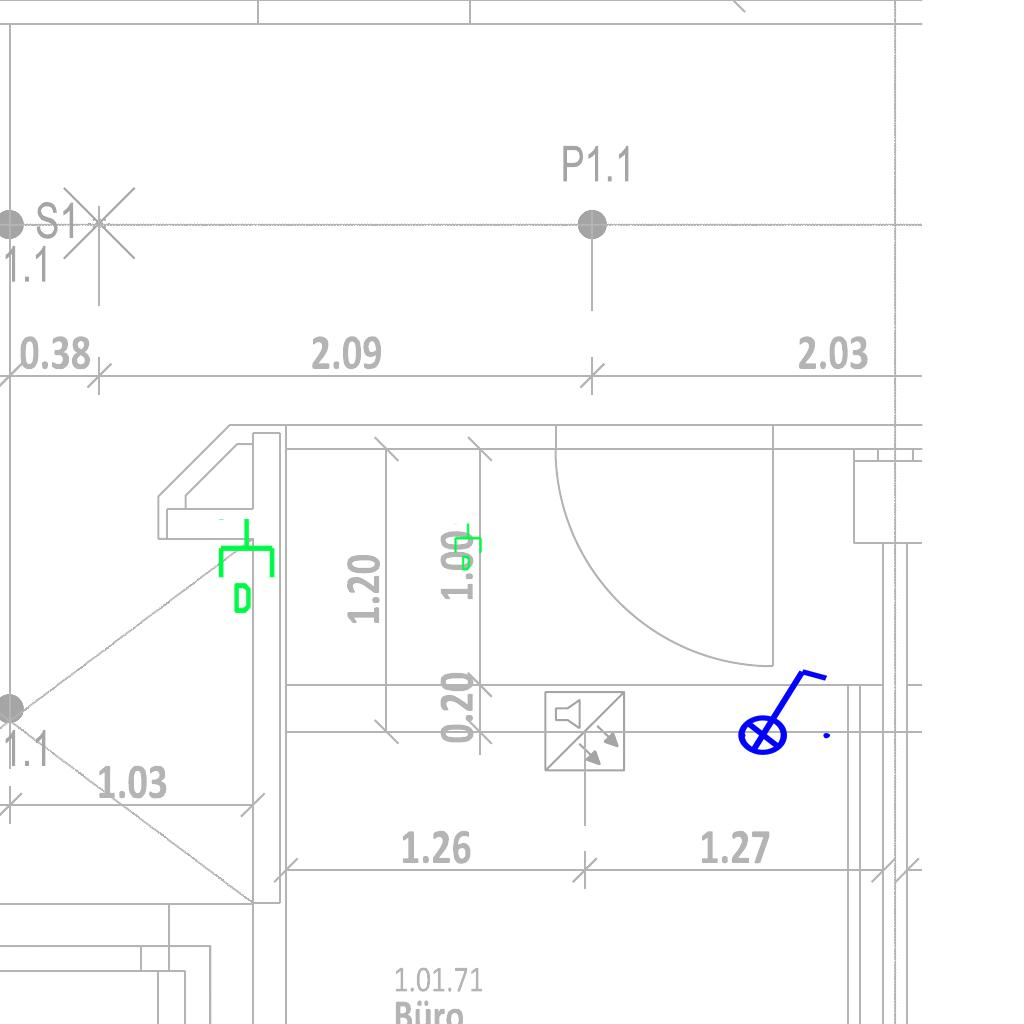Ausschalter_beleuchtet: (724, 661, 836, 757)
Datenanschluss_einfach: (214, 516, 283, 616), (452, 522, 486, 572)
